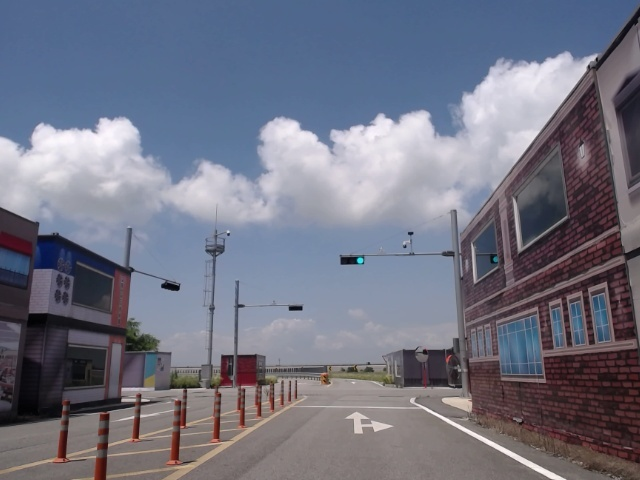green_3: (341, 257, 365, 265)
